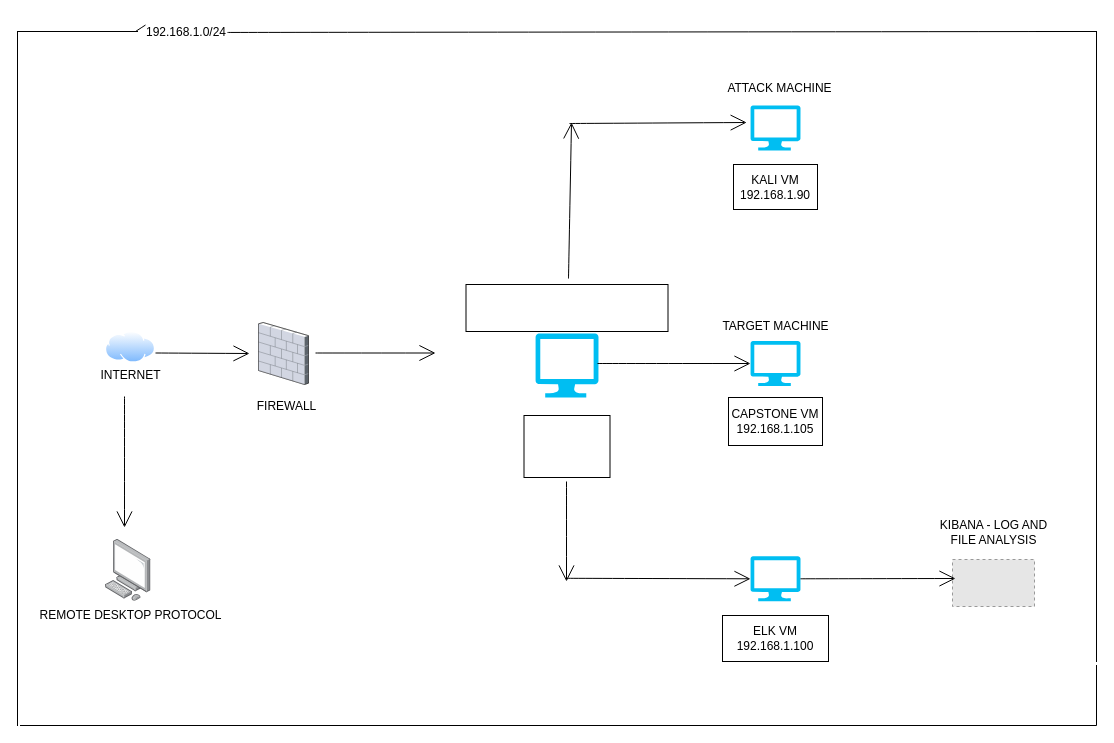
Some shapes in this 1114 by 743 pixel diagram are drawn without their labels. Grey dashed boxes stand in for pictures. The centre of each missing label's shape, as x and y in pixels:
"HOST MACHINE WITH HYPER-V MANAGER CONTAINING THE KALI, CAPSTONE, AND ELK VMs." belongs at pixel 566 308.
"ML-REFVM-684427 192.168.1.1" belongs at pixel 566 446.
